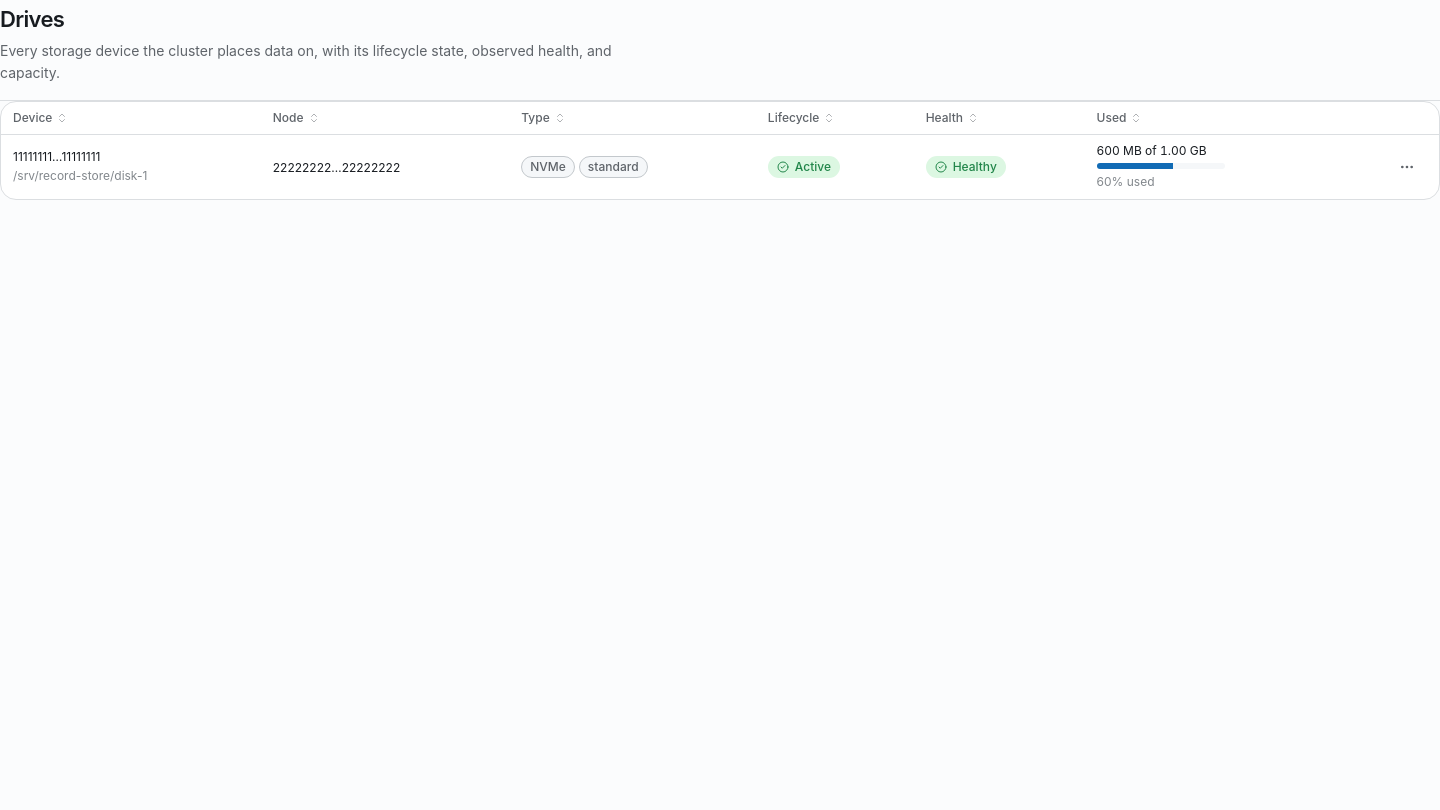
Test case: DrivesScreen › warns that retiring a device cannot be undone
Click the button named "Actions for device 11111111-1111-4111-8111-111111111111".
click(1407, 167)  # box [1387,147,1427,187]
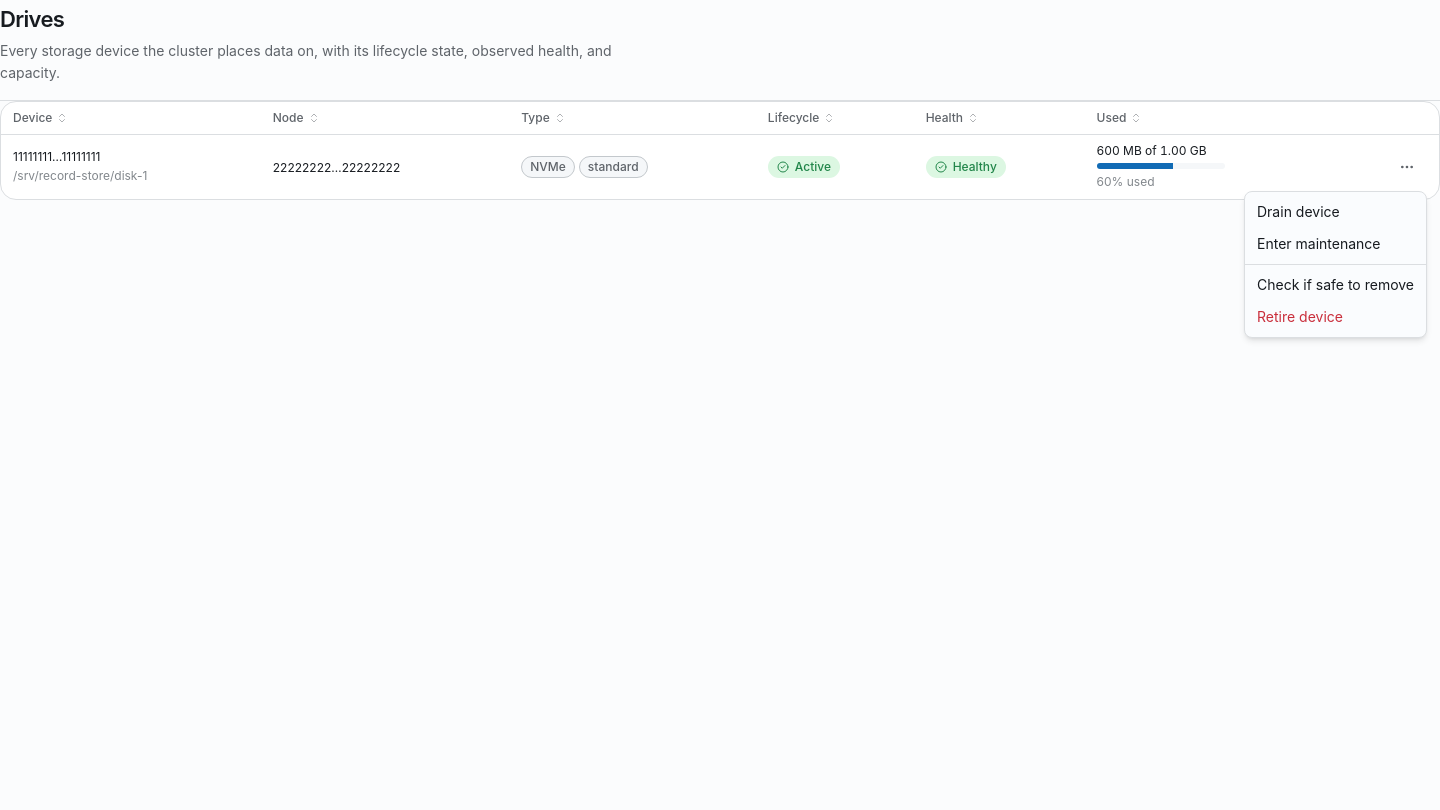
Click the menu item "Retire device".
click(1300, 316)  # box [1257,308,1343,325]
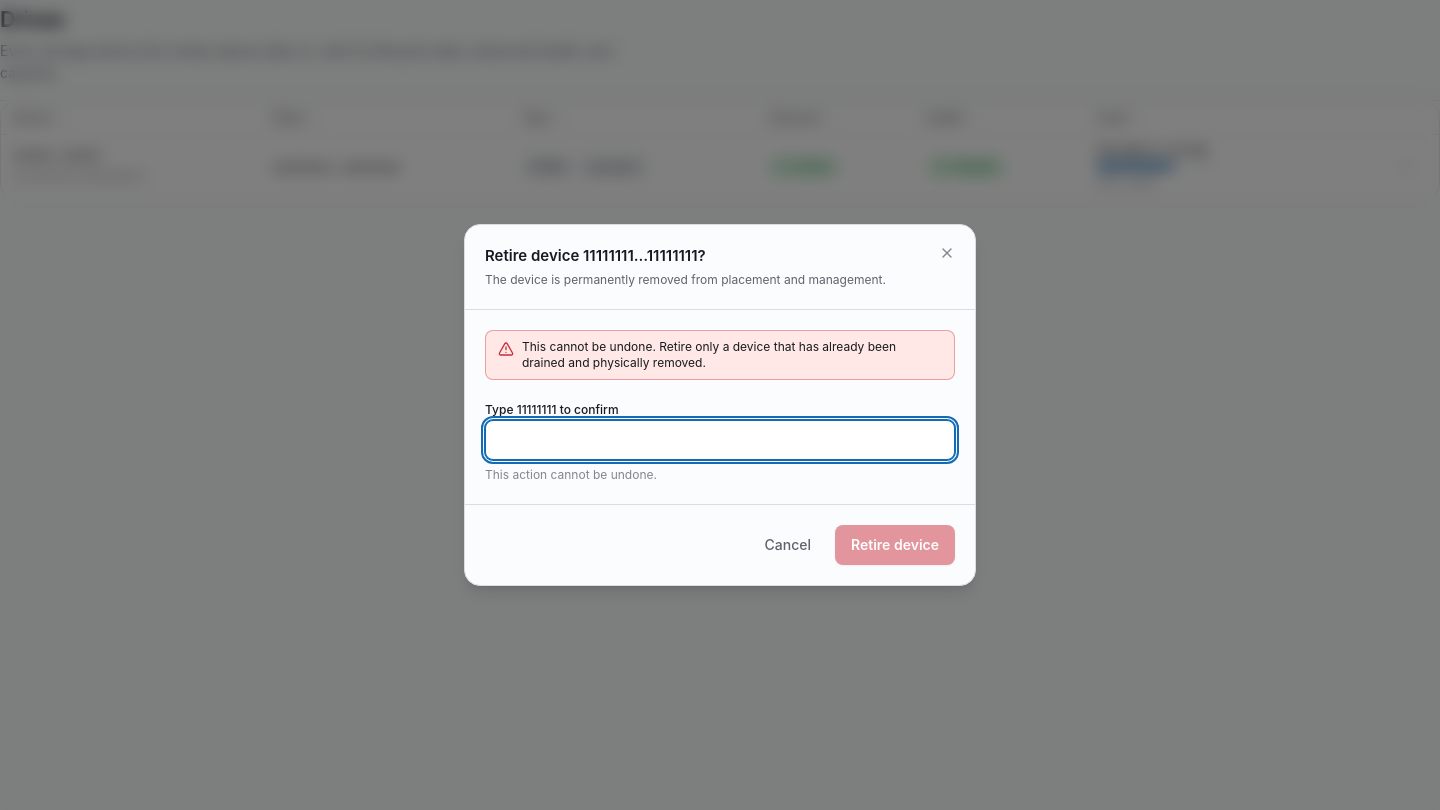
Now the text "Retire only a device that has already been drained" is shown, box [522,339,896,370]
